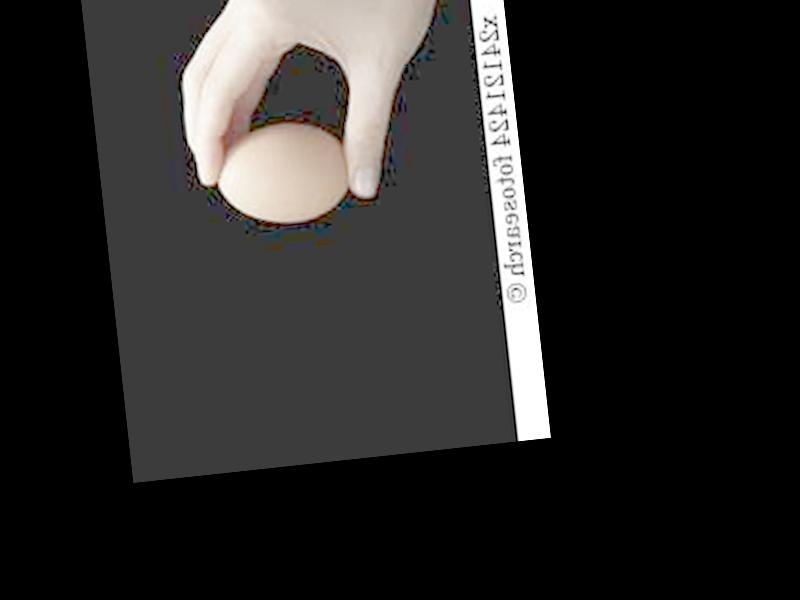Eggs: (209, 118, 352, 229)
